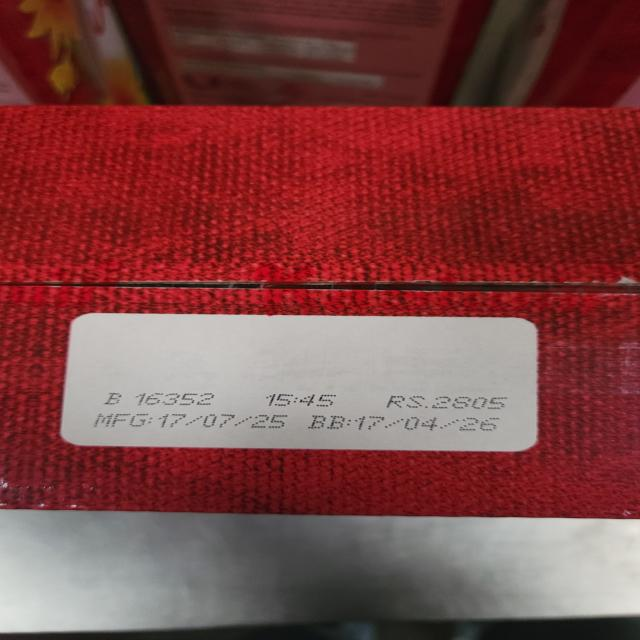BB: (309, 414, 504, 432)
Batch: (102, 392, 218, 406)
MFG: (94, 412, 290, 429)
RS: (388, 395, 512, 409)
TimeStamp: (262, 394, 338, 407)
